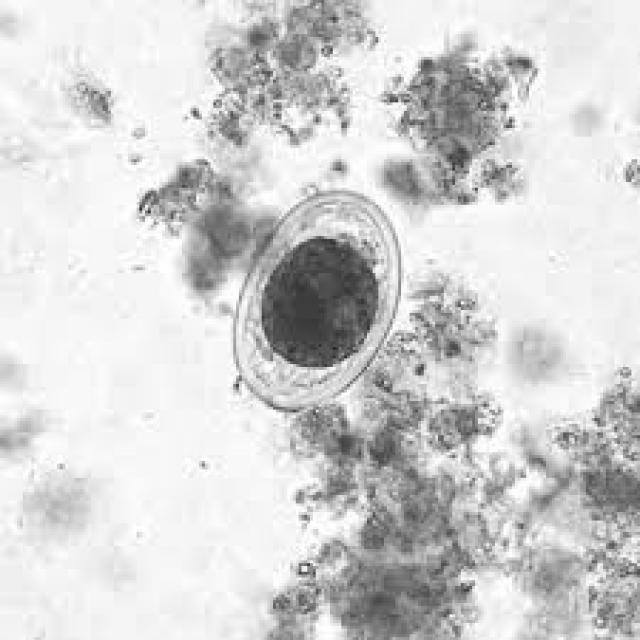Ascaris Lumbricoides: (224, 185, 406, 412)
